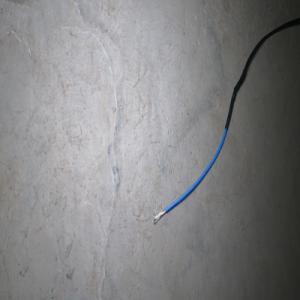Wire: (152, 17, 300, 223)
